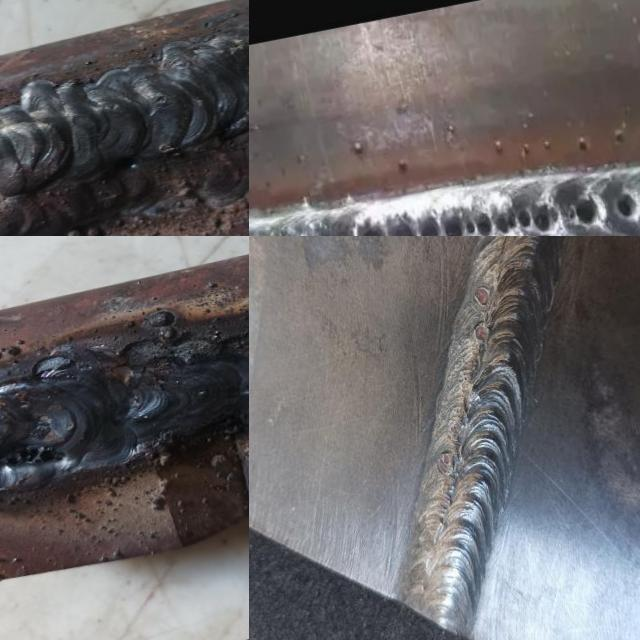defect: (359, 201, 564, 236), (0, 445, 71, 469), (571, 193, 601, 234), (615, 192, 639, 224), (471, 283, 493, 310), (471, 322, 491, 346), (448, 417, 465, 441), (436, 452, 453, 476), (153, 92, 172, 110), (458, 368, 472, 388)
